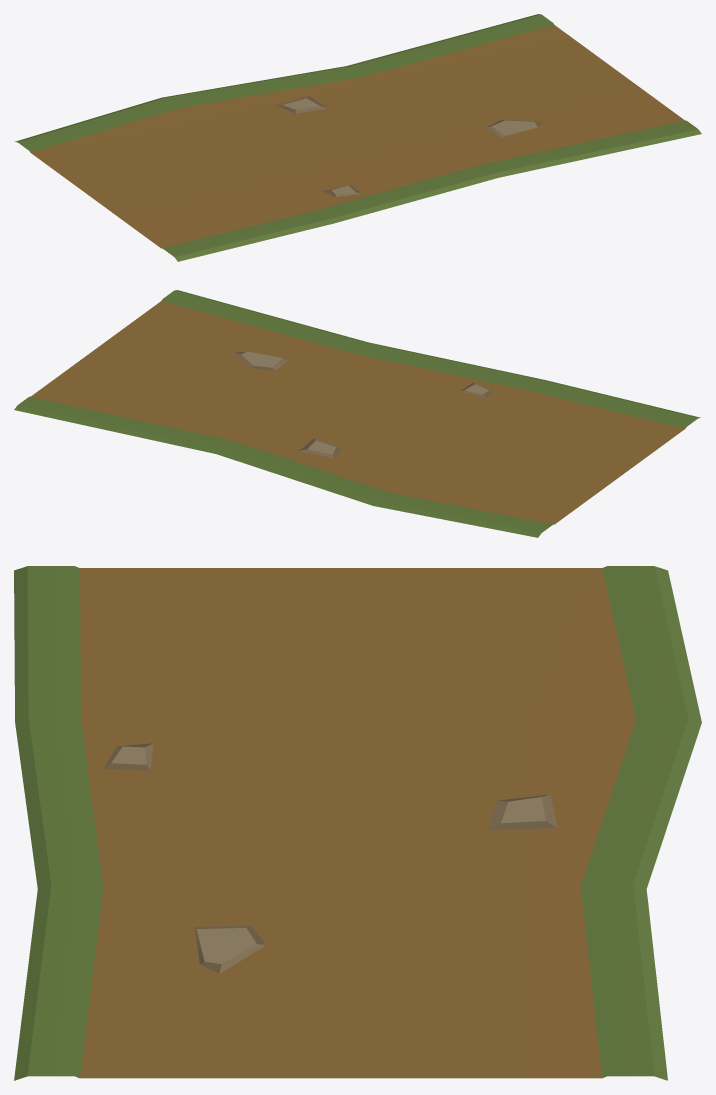
Rendered from Path_Straight_03.gltf.
3 renders of one model, top to bottom at view 1: azimuth 30°, elevation 25°; view 2: azimuth 150°, elevation 25°; view 3: azimuth 270°, elevation 25°, orthographic. The views are drawn at different scales.
Parts seen in each view (by area): view 1: SF_Env_Path_Straight_03; view 2: SF_Env_Path_Straight_03; view 3: SF_Env_Path_Straight_03.
Boxes of the visible parts, bbox=[...] form: SF_Env_Path_Straight_03: bbox=[14, 14, 701, 261]; SF_Env_Path_Straight_03: bbox=[14, 290, 700, 537]; SF_Env_Path_Straight_03: bbox=[14, 566, 701, 1080].
Bounding box in the file's own units: 0.1 × 0.000405 × 0.057.
1 material, 1 textured.
